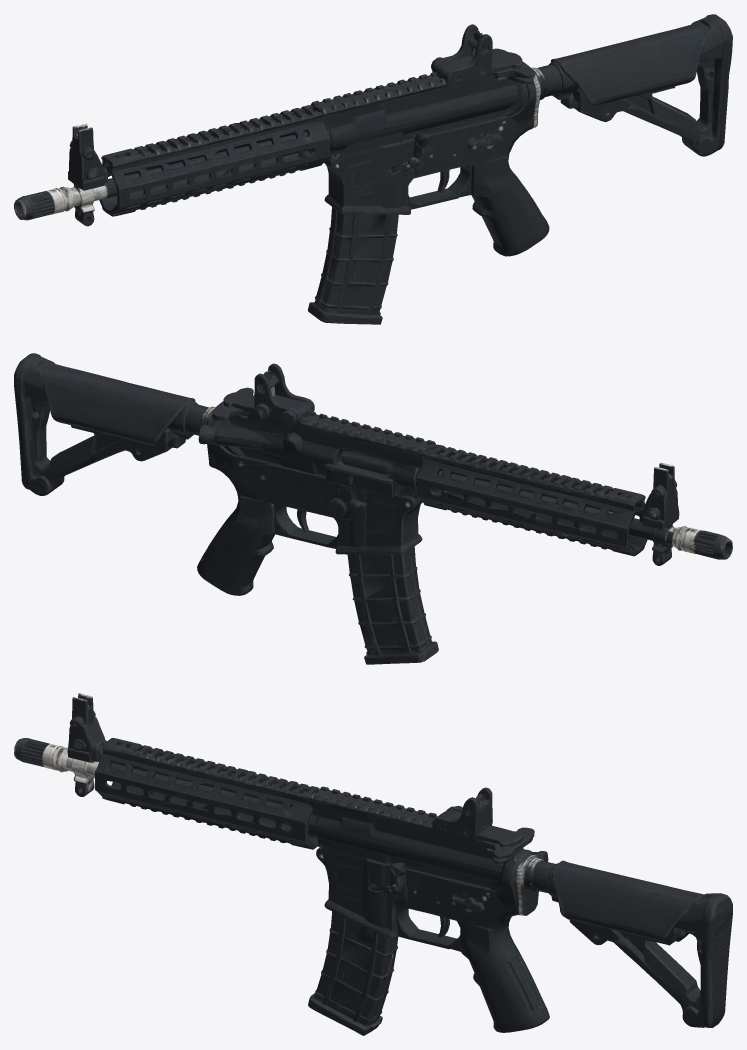
The picture shows the model from 3 angles, top to bottom: view 1: azimuth 30°, elevation 25°; view 2: azimuth 150°, elevation 25°; view 3: azimuth 330°, elevation 25°; orthographic projection.
Bounding box in the file's own units: 1.9 × 0.6782 × 0.1759.
1 material, 1 textured.
